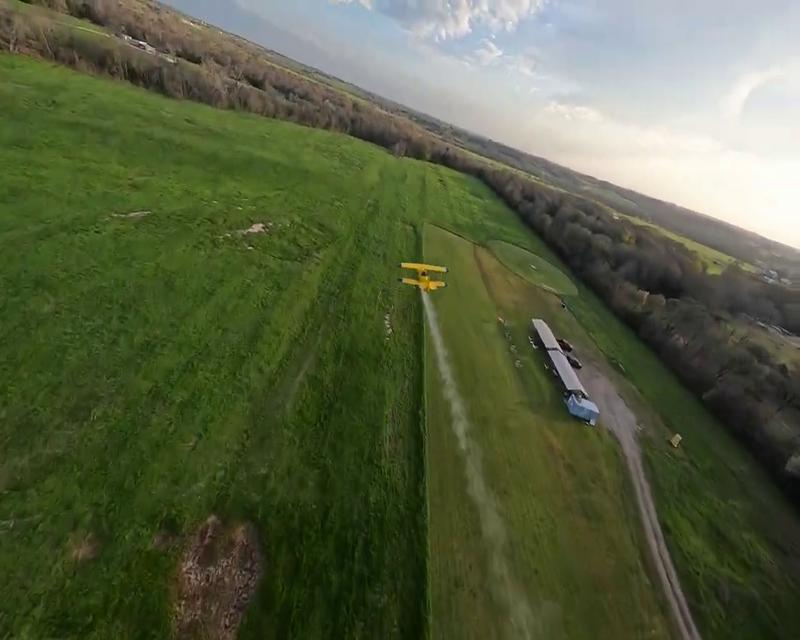UAV: (401, 261, 448, 292)
